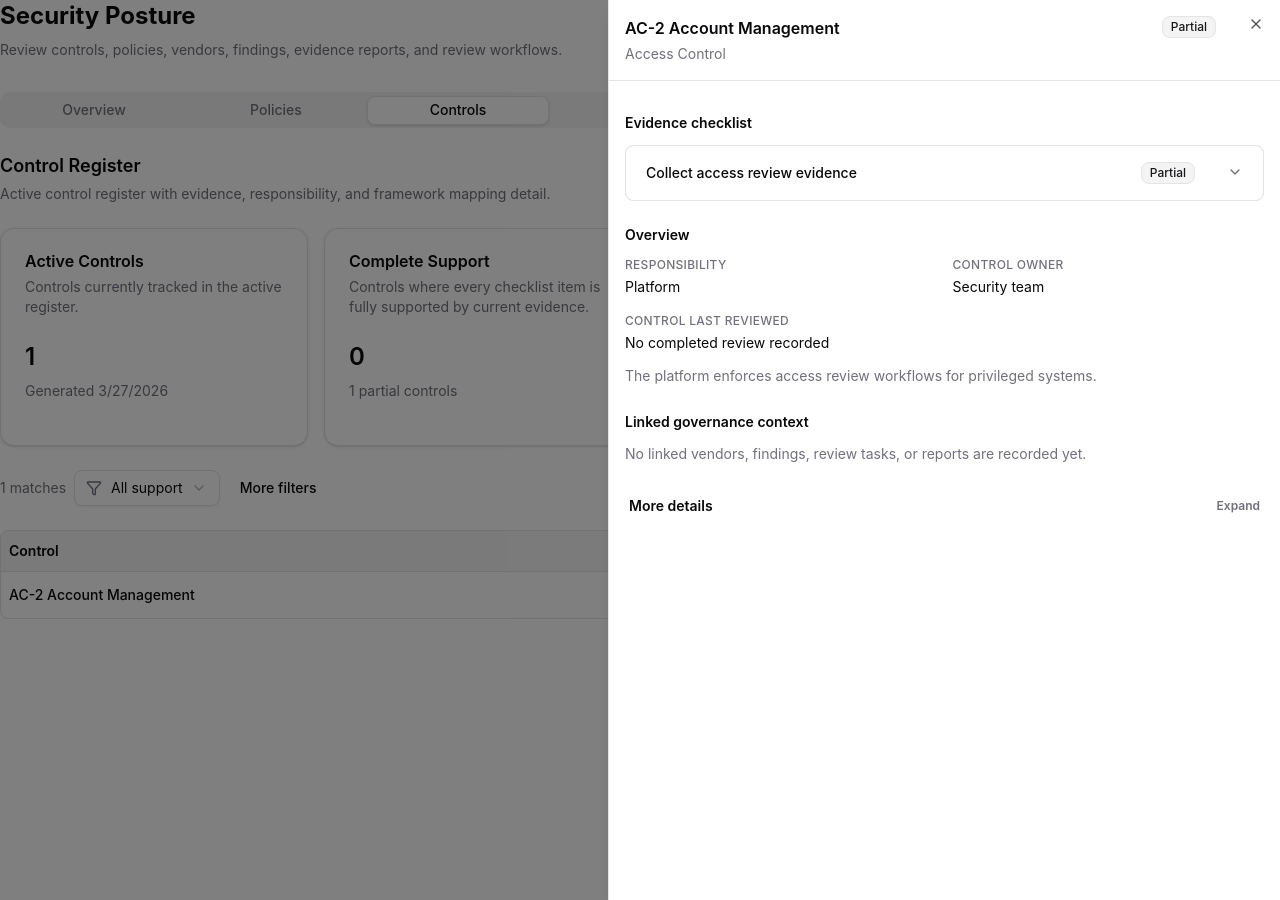
Admin security route › does not offer approval for seeded evidence
Click the button "Collect access review evidence Partial": [751, 172] box [626, 146, 1263, 200]
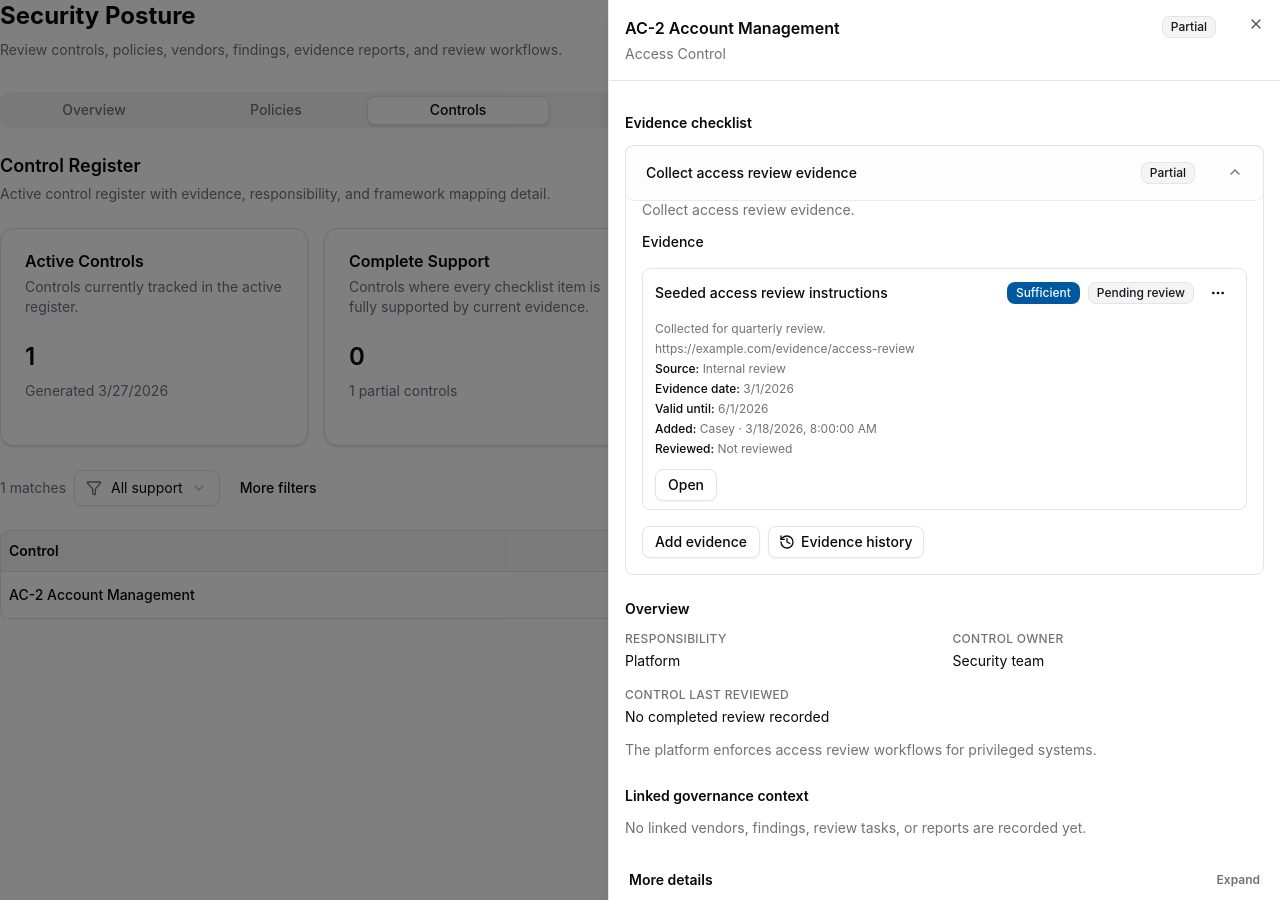
Click the button named "evidence actions for seeded access review instructions": [1218, 293] box [1202, 277, 1234, 309]
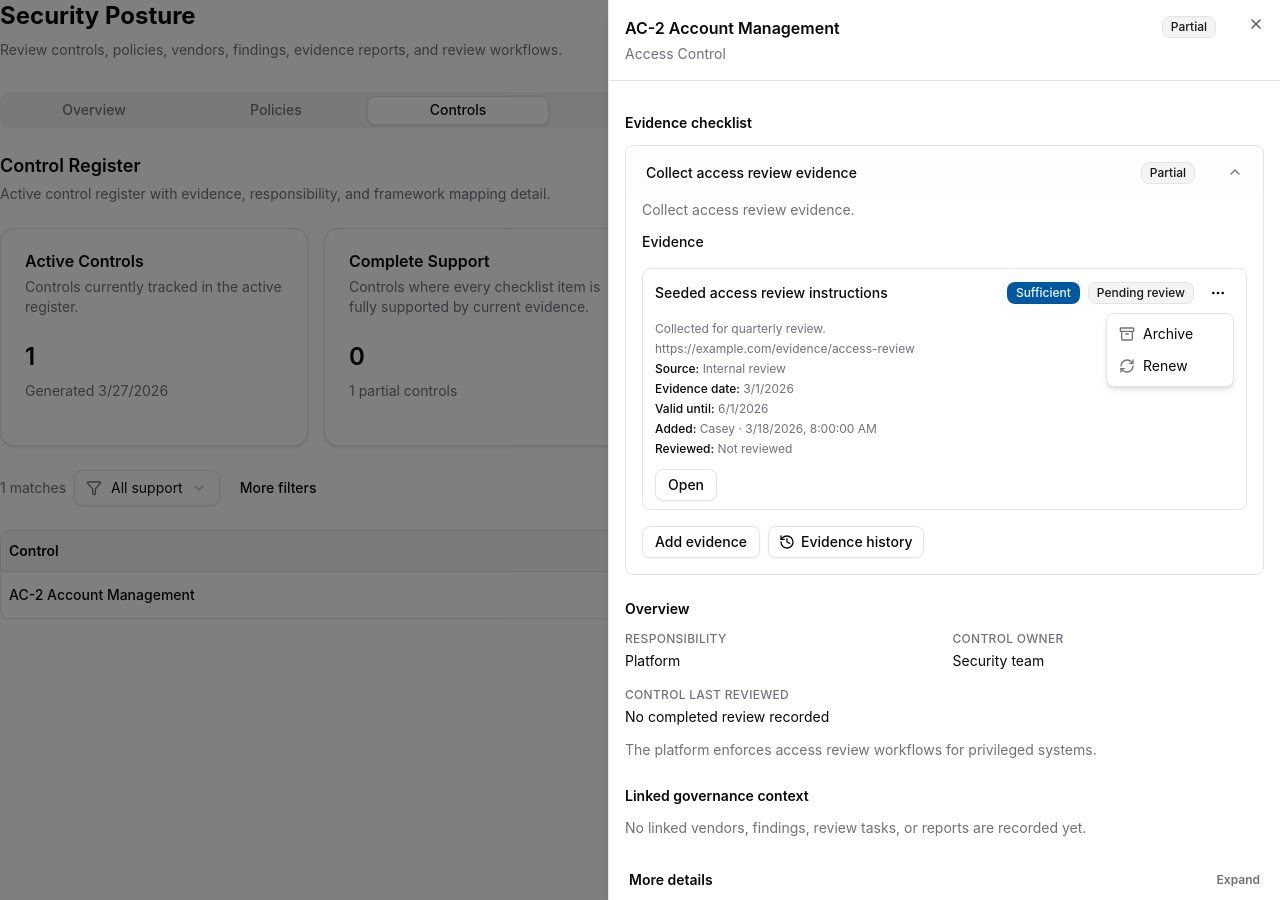
Now the menu item "Archive" is shown, box [1119, 325, 1193, 342]
Now the menu item "Renew" is shown, box [1119, 357, 1188, 374]
